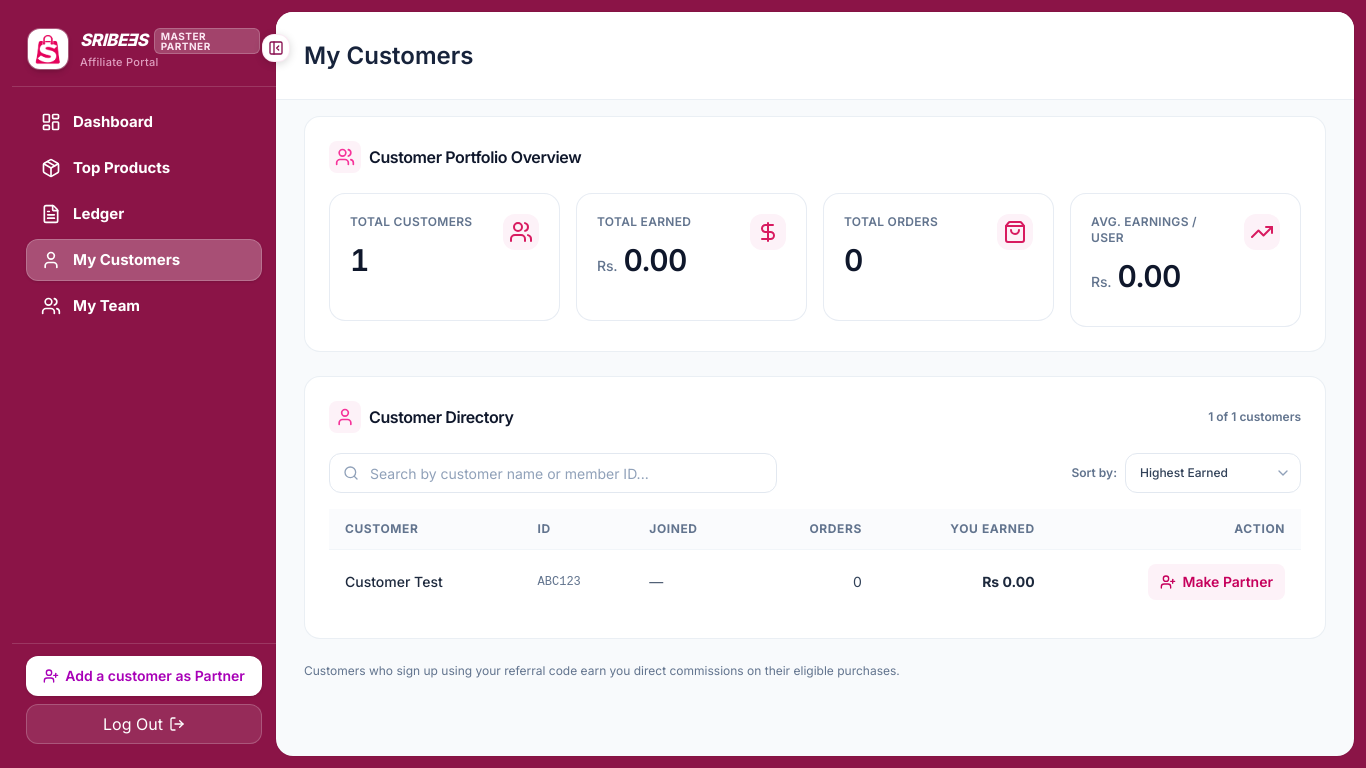
Test: customer invitation channels › reports SMS=false and email=false accurately
This screenshot has width=1366, height=768.
Click the button "Make Partner" at (1217, 582), box [1148, 564, 1285, 600]
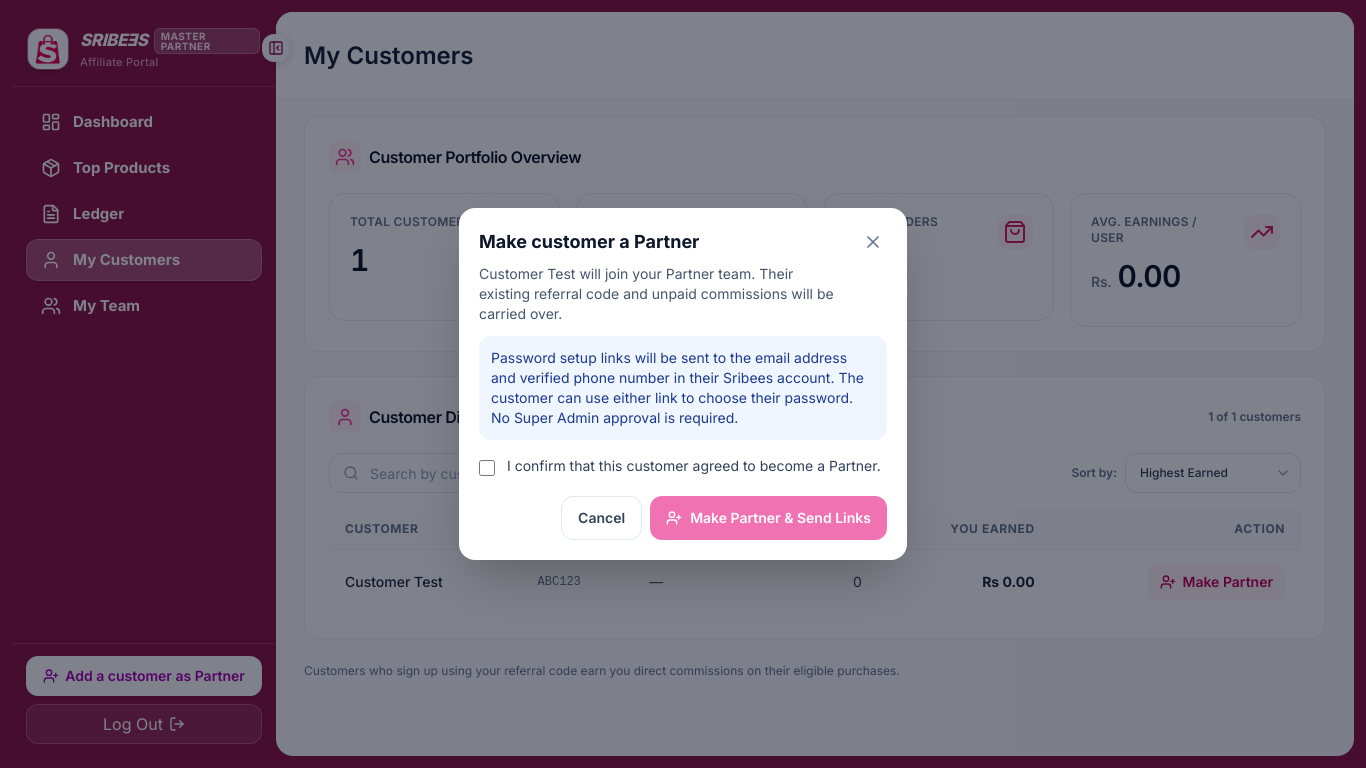
Click the checkbox at (487, 468), box [479, 460, 495, 476]
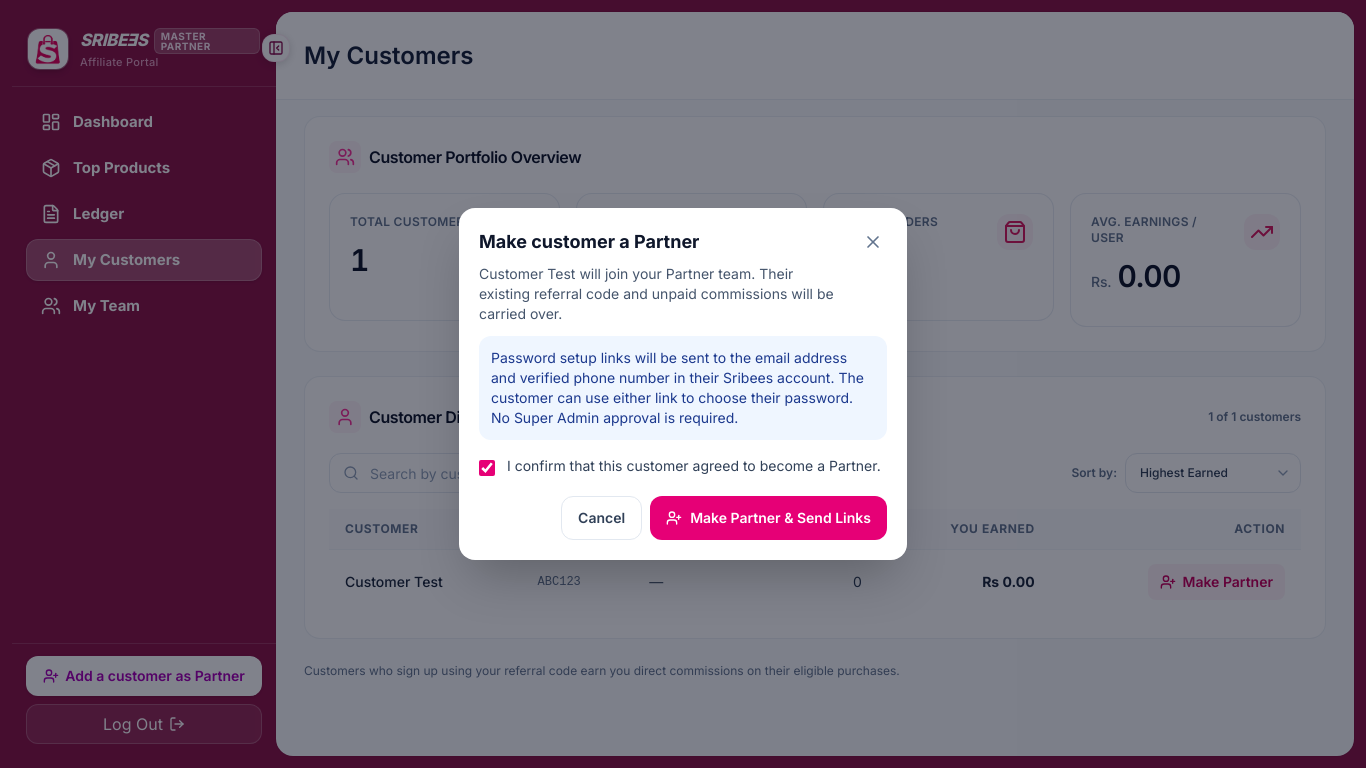
Click the button "Make Partner & Send Links" at (769, 518), box [650, 496, 887, 540]
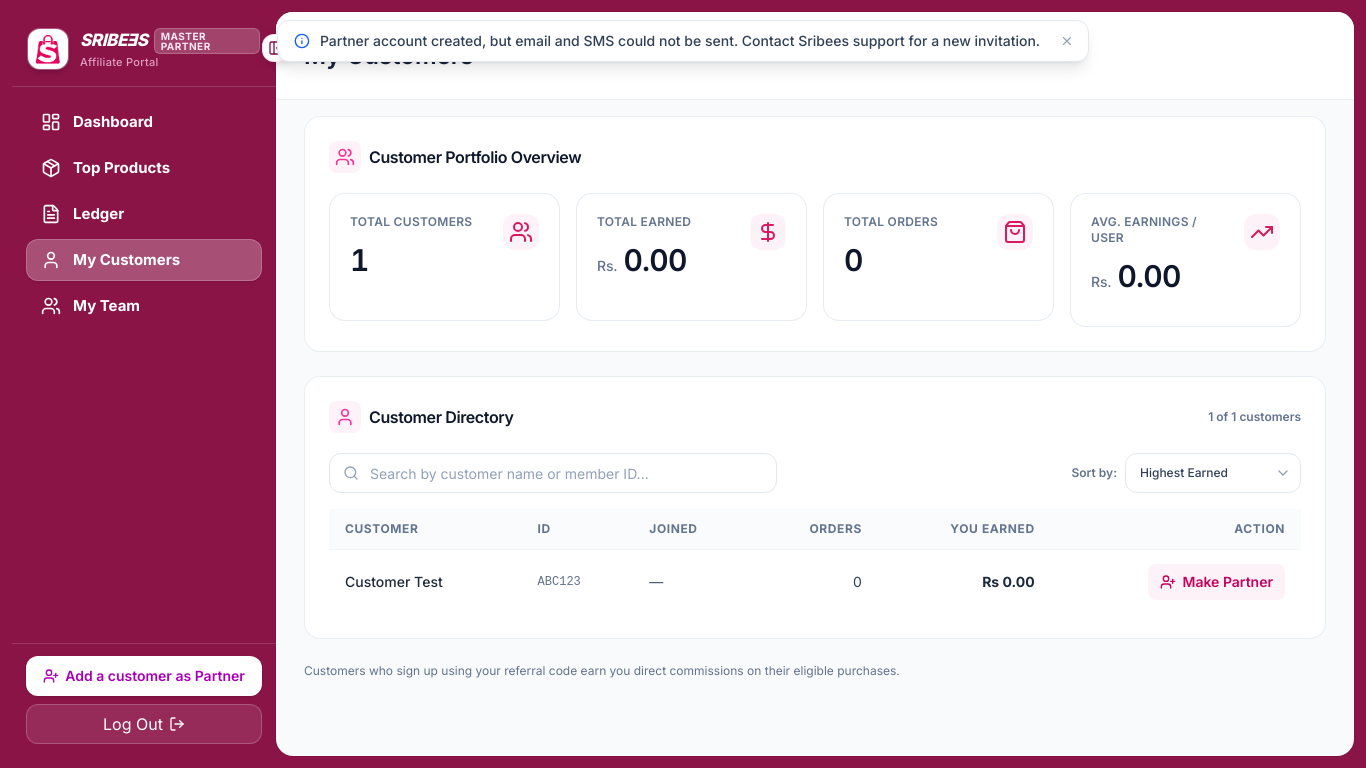
Expected: the text "Partner account created, but email and SMS could not be sent. Contact Sribees support for a new invitation." is shown, [320, 32, 1040, 49]
